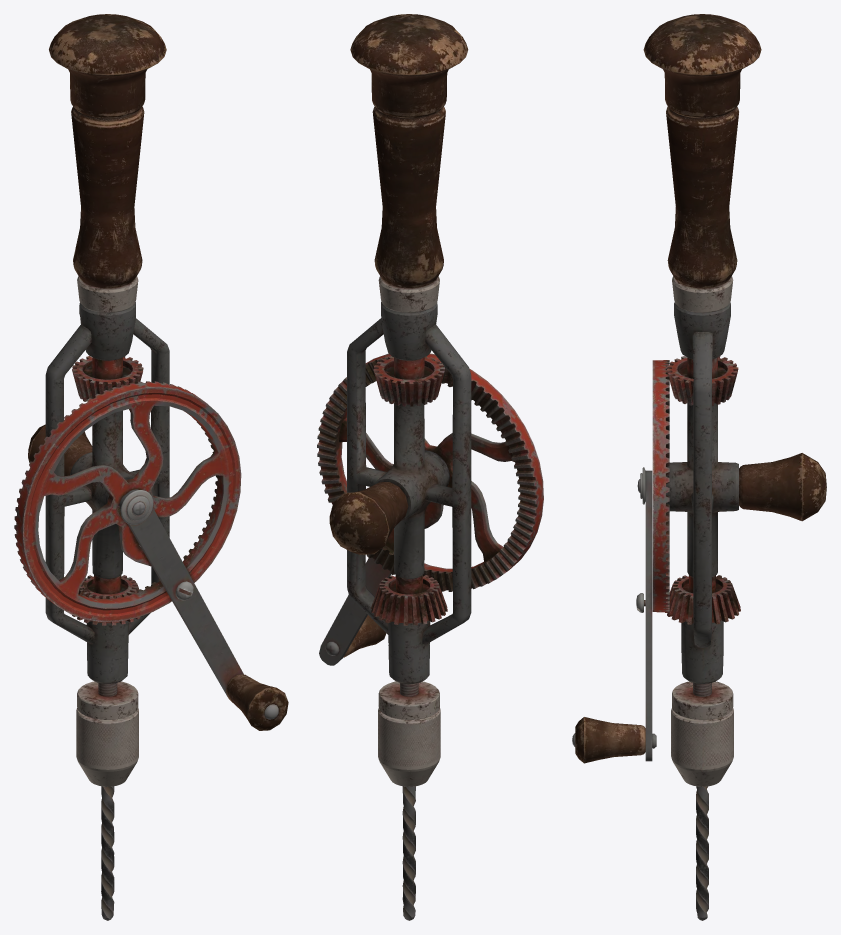
Rendered from drill.glb.
The picture shows the model from 3 angles, left to right: view 1: azimuth 30°, elevation 25°; view 2: azimuth 150°, elevation 25°; view 3: azimuth 270°, elevation 25°; orthographic projection.
Visible parts, largest first — view 1: vintage_hand_drill; view 2: vintage_hand_drill; view 3: vintage_hand_drill.
Part boxes in pixels (<box>): vintage_hand_drill: <box>14,14,288,920</box>; vintage_hand_drill: <box>317,14,543,920</box>; vintage_hand_drill: <box>572,14,826,920</box>.
Bounding box in the file's own units: 0.1312 × 0.4857 × 0.1251.
1 material, 1 textured.
